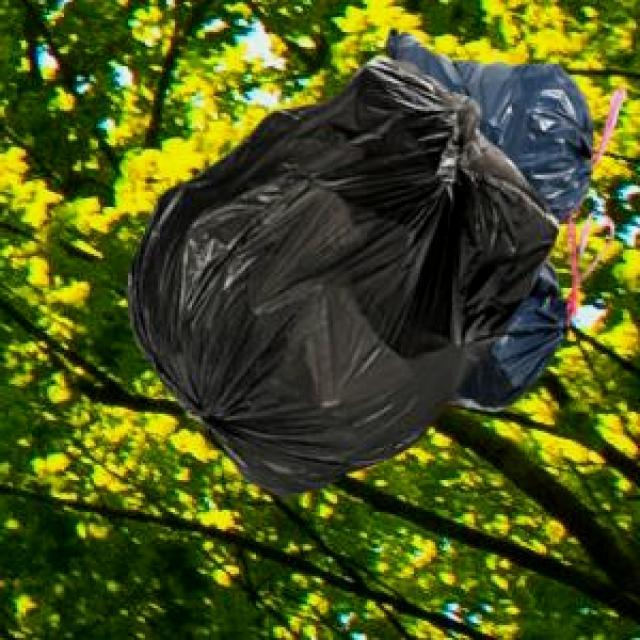Trashbag: (124, 54, 561, 498)
